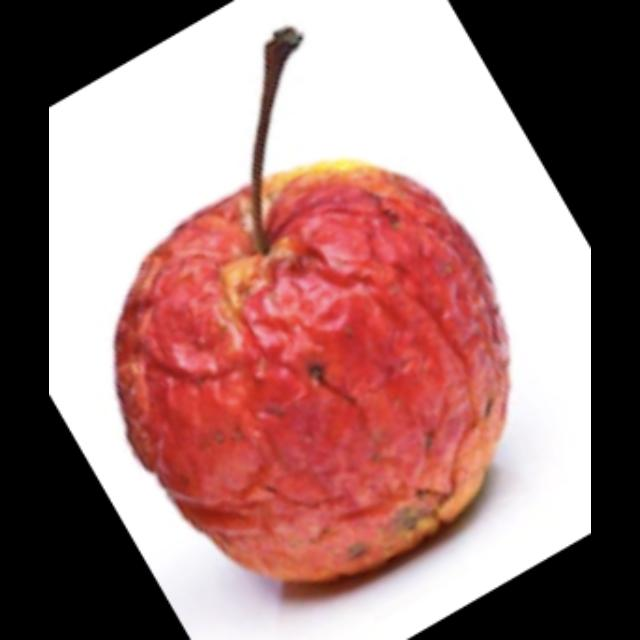Apel Tidak Segar: (104, 152, 522, 596)
